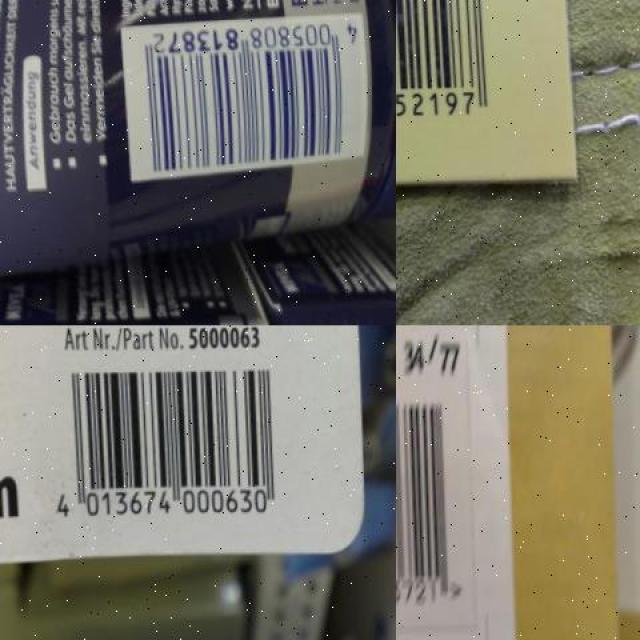Barcode: (33, 357, 291, 540), (118, 17, 366, 179), (396, 325, 485, 640), (396, 0, 500, 143)
